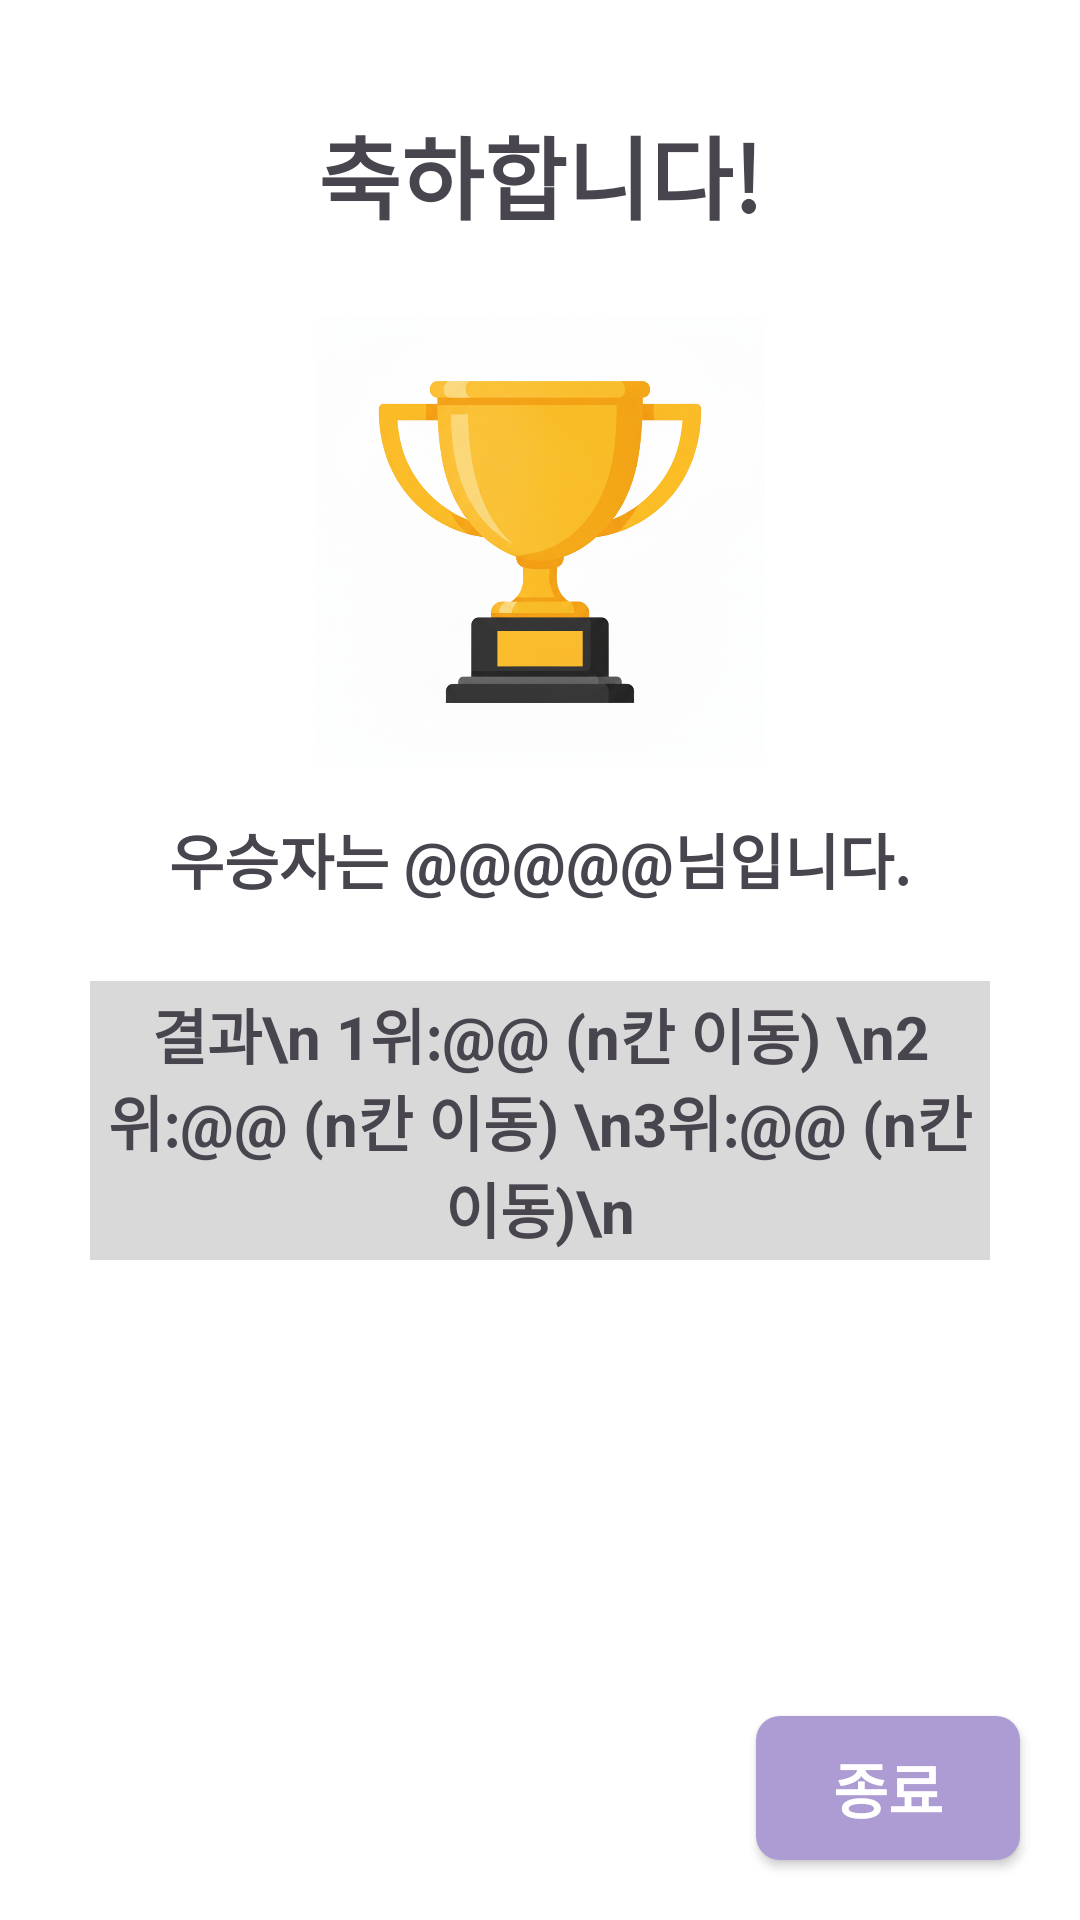

Named icons in this screenshot (1080 x 1920) and their bounding boxes, (x1, y1, x2, y2):
trophy: (378, 381, 702, 703)
